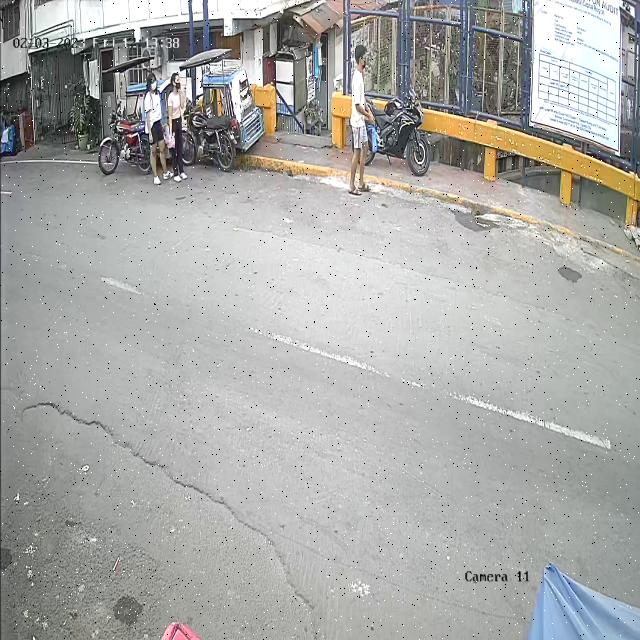human: (348, 45, 377, 196), (166, 72, 186, 184)
trash: (369, 118, 378, 156)
